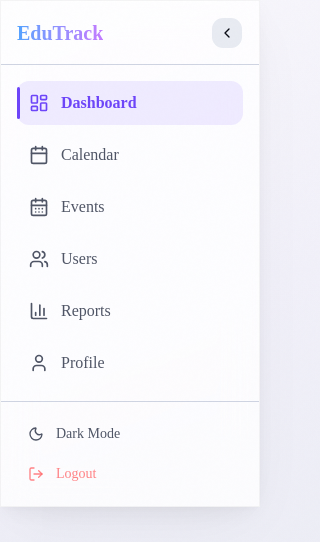
Sidebar › toggles collapse state on button click
What coordinates should you click on to do the following:
click the button named "Collapse sidebar"
I would click on:
 (227, 32)
Its box is [211, 16, 243, 48].
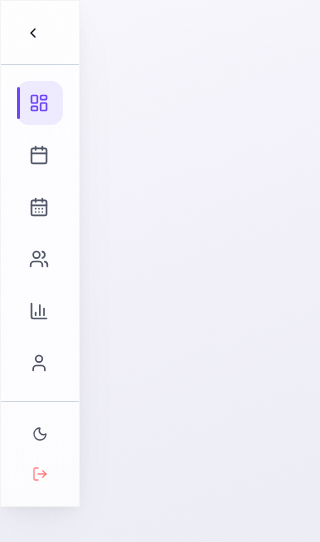
Result: the button named "Expand sidebar" is shown at [17, 16, 49, 48]
